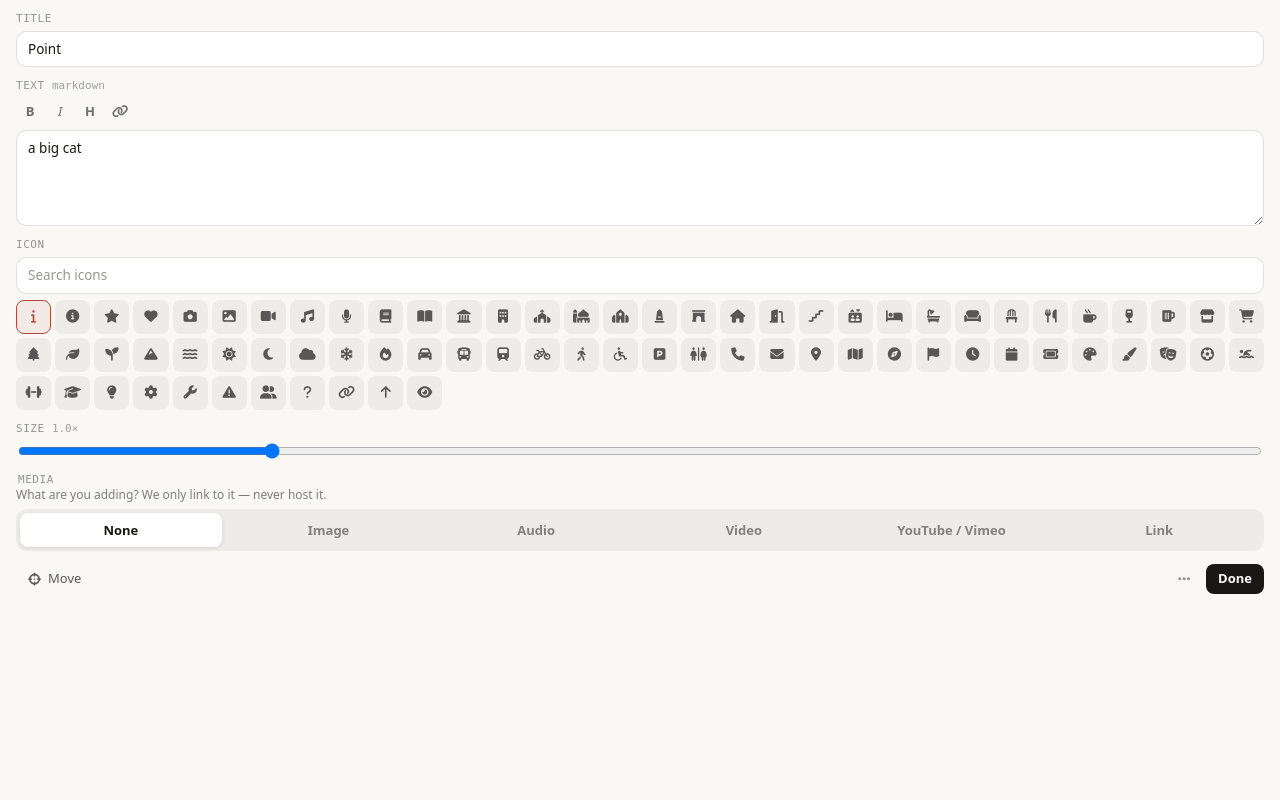
Test: PointEditor markdown toolbar › formats the selection from the toolbar and keeps the result selected
The width and height of the screenshot is (1280, 800).
Click the button named "Bold" at (30, 111), box x1=16 y1=98 x2=44 y2=124
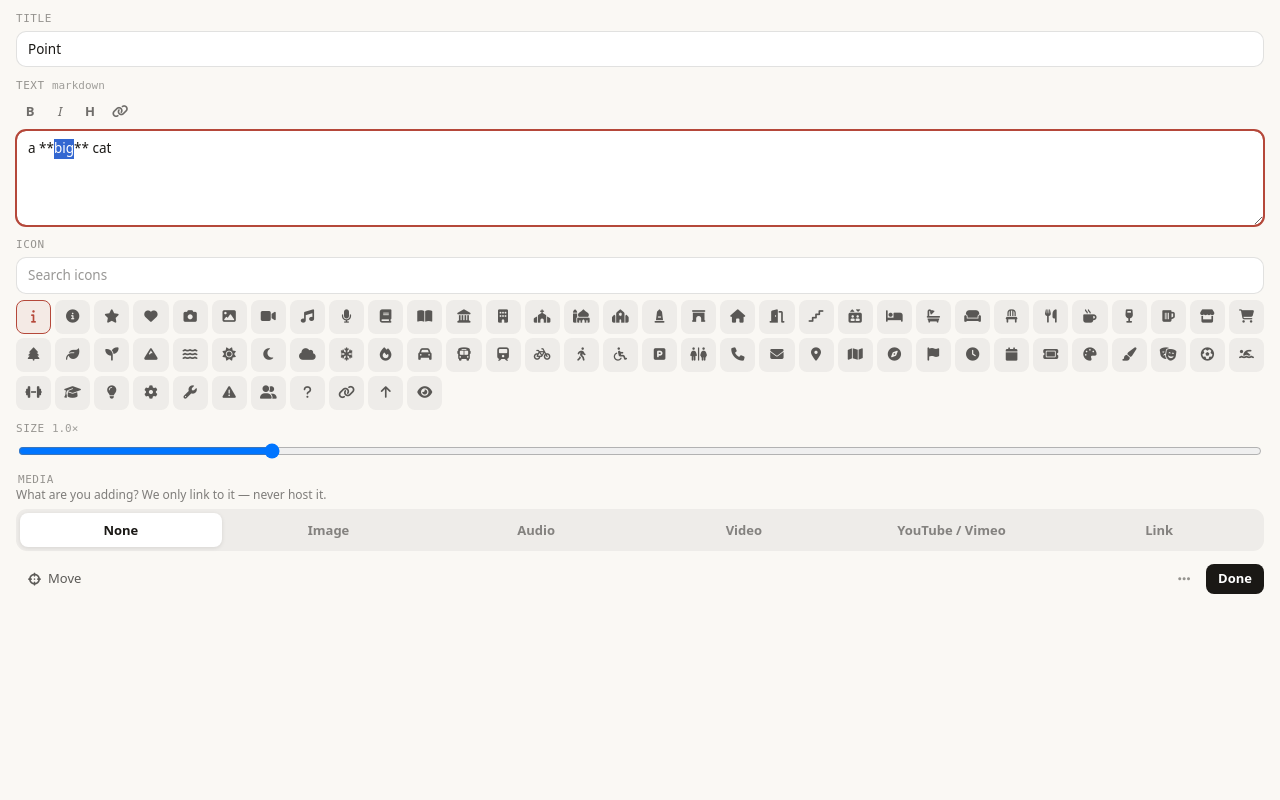
Now the text box labelled "Text markdown" holds "a **big** cat", box x1=16 y1=130 x2=1264 y2=226
Click the button named "Italic" at (60, 111), box x1=46 y1=98 x2=74 y2=124
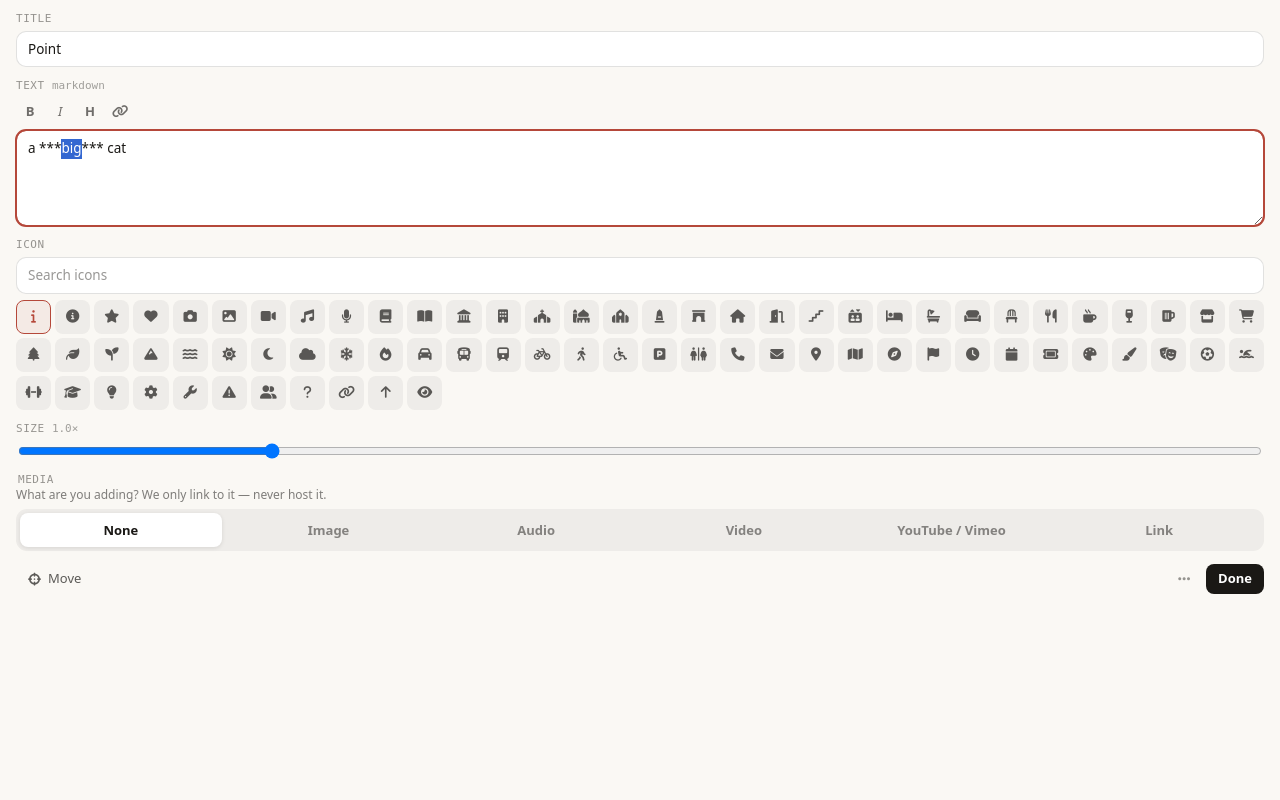
Now the text box labelled "Text markdown" holds "a ***big*** cat", box x1=16 y1=130 x2=1264 y2=226
Click the button named "Bold" at (30, 111), box x1=16 y1=98 x2=44 y2=124
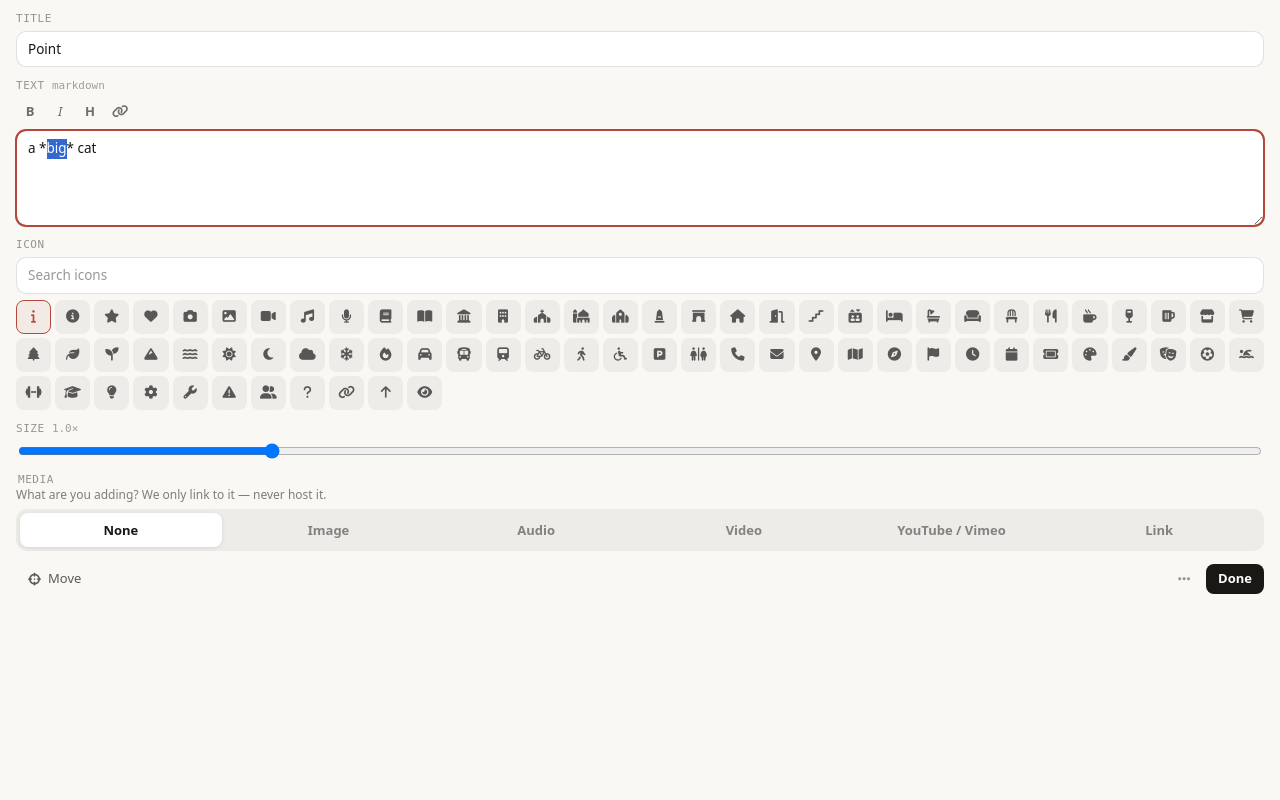
Now the text box labelled "Text markdown" holds "a *big* cat", box x1=16 y1=130 x2=1264 y2=226
Click the button named "Heading" at (90, 111), box x1=76 y1=98 x2=104 y2=124
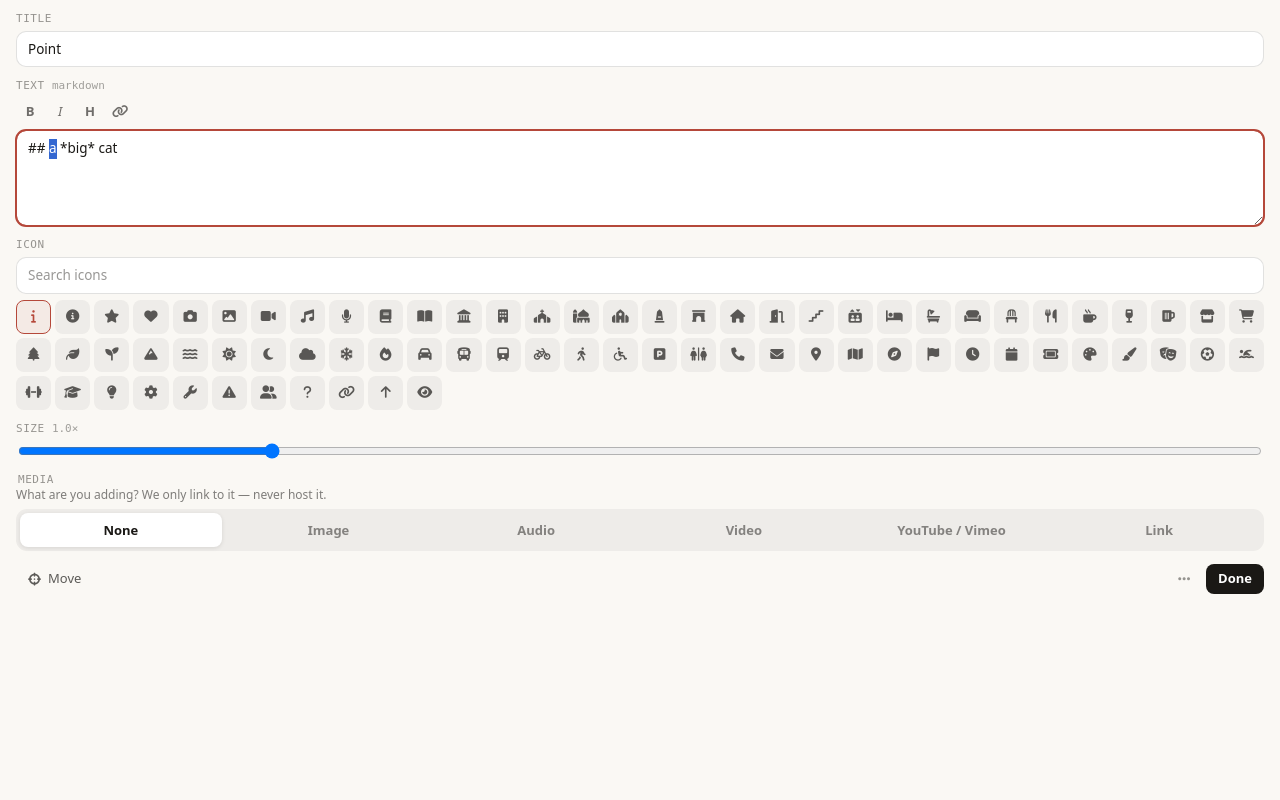
Now the text box labelled "Text markdown" holds "## a *big* cat", box x1=16 y1=130 x2=1264 y2=226
Click the button named "Link" at (120, 111), box x1=106 y1=98 x2=134 y2=124
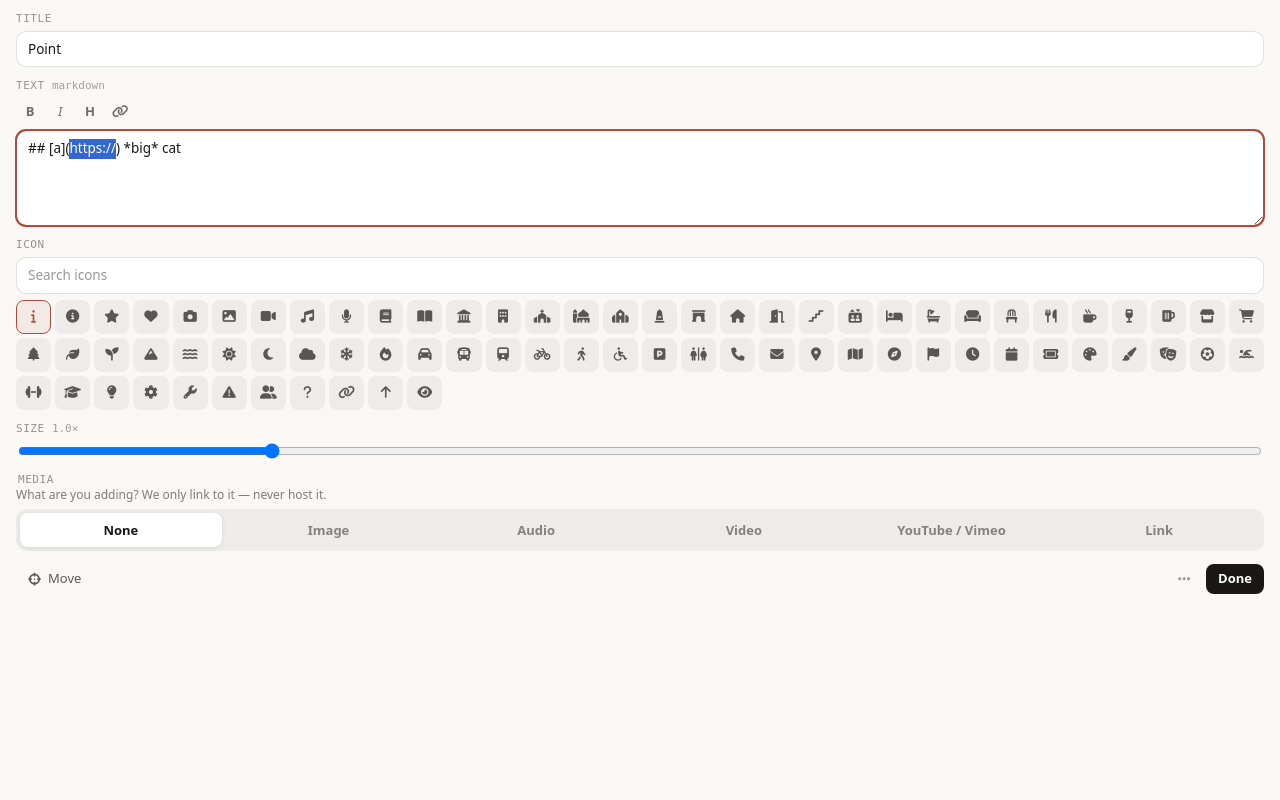
Now the text box labelled "Text markdown" holds "## [a](https://) *big* cat", box x1=16 y1=130 x2=1264 y2=226
